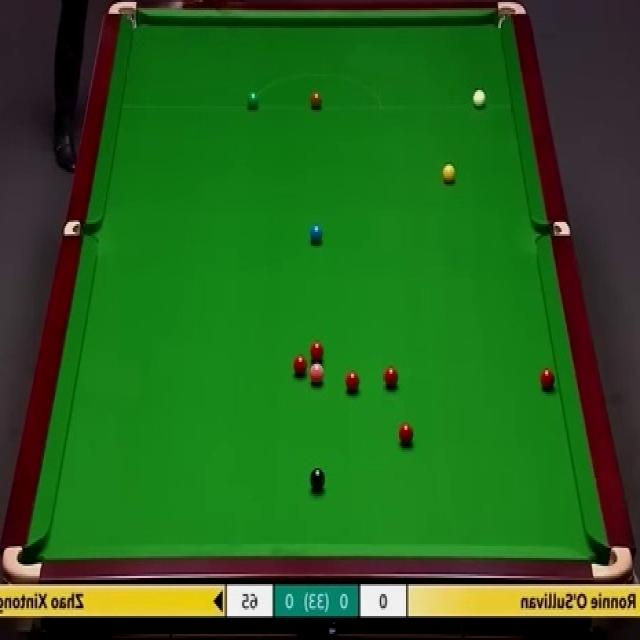black-ball: (309, 469, 326, 490)
blue-ball: (310, 224, 325, 244)
brown-ball: (310, 88, 322, 108)
green-ball: (245, 91, 258, 109)
pink-ball: (310, 360, 324, 388)
red-ball: (398, 422, 414, 447), (345, 369, 361, 393), (539, 368, 557, 388), (292, 353, 307, 377), (384, 367, 398, 390), (309, 342, 325, 361)
white-ball: (473, 89, 486, 108)
yellow-ball: (443, 162, 457, 183)
